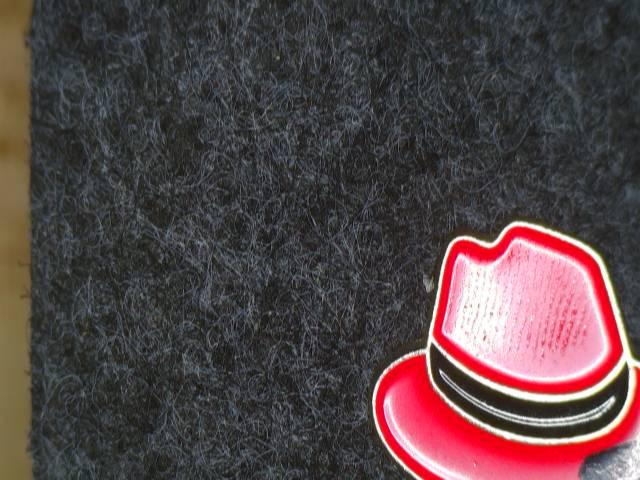Red-Hat: (331, 187, 640, 480)
Scratch: (568, 434, 640, 480)
